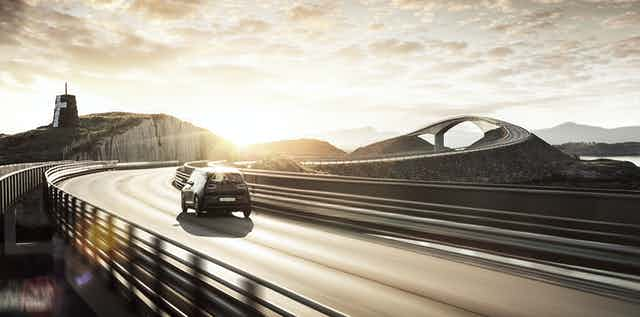car: (181, 167, 249, 219)
